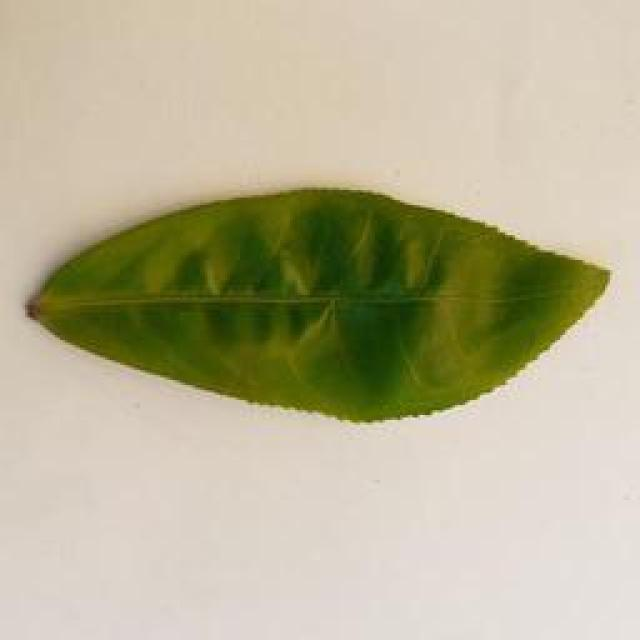Healthy: (11, 180, 618, 436)
